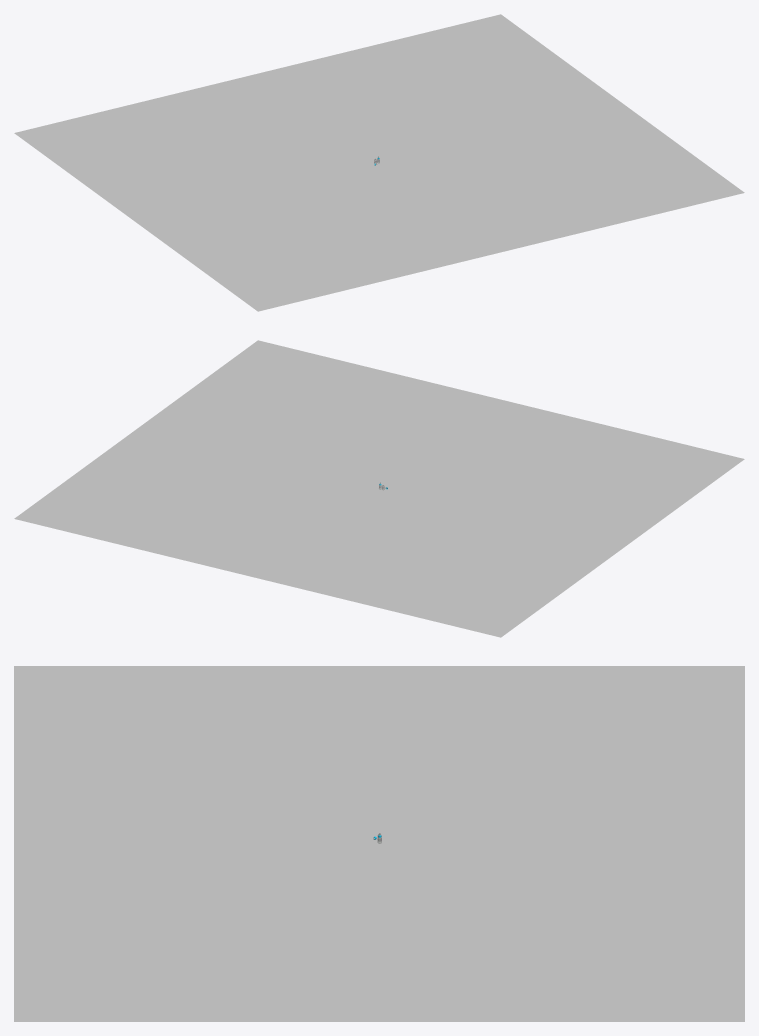
Rendered from Baby bottle.obj.
3 views of the same model, one above another, from view 1: azimuth 30°, elevation 25°; view 2: azimuth 150°, elevation 25°; view 3: azimuth 270°, elevation 25° (orthographic). The views are drawn at different scales.
Parts seen in each view (by area): view 1: (null); view 2: (null); view 3: (null).
Boxes of the visible parts, x1,y1,x2,y2 form: (null): (14,14,744,311); (null): (14,340,744,637); (null): (14,666,744,1021).
Bounding box in the file's own units: 74512 × 1005 × 64671.
